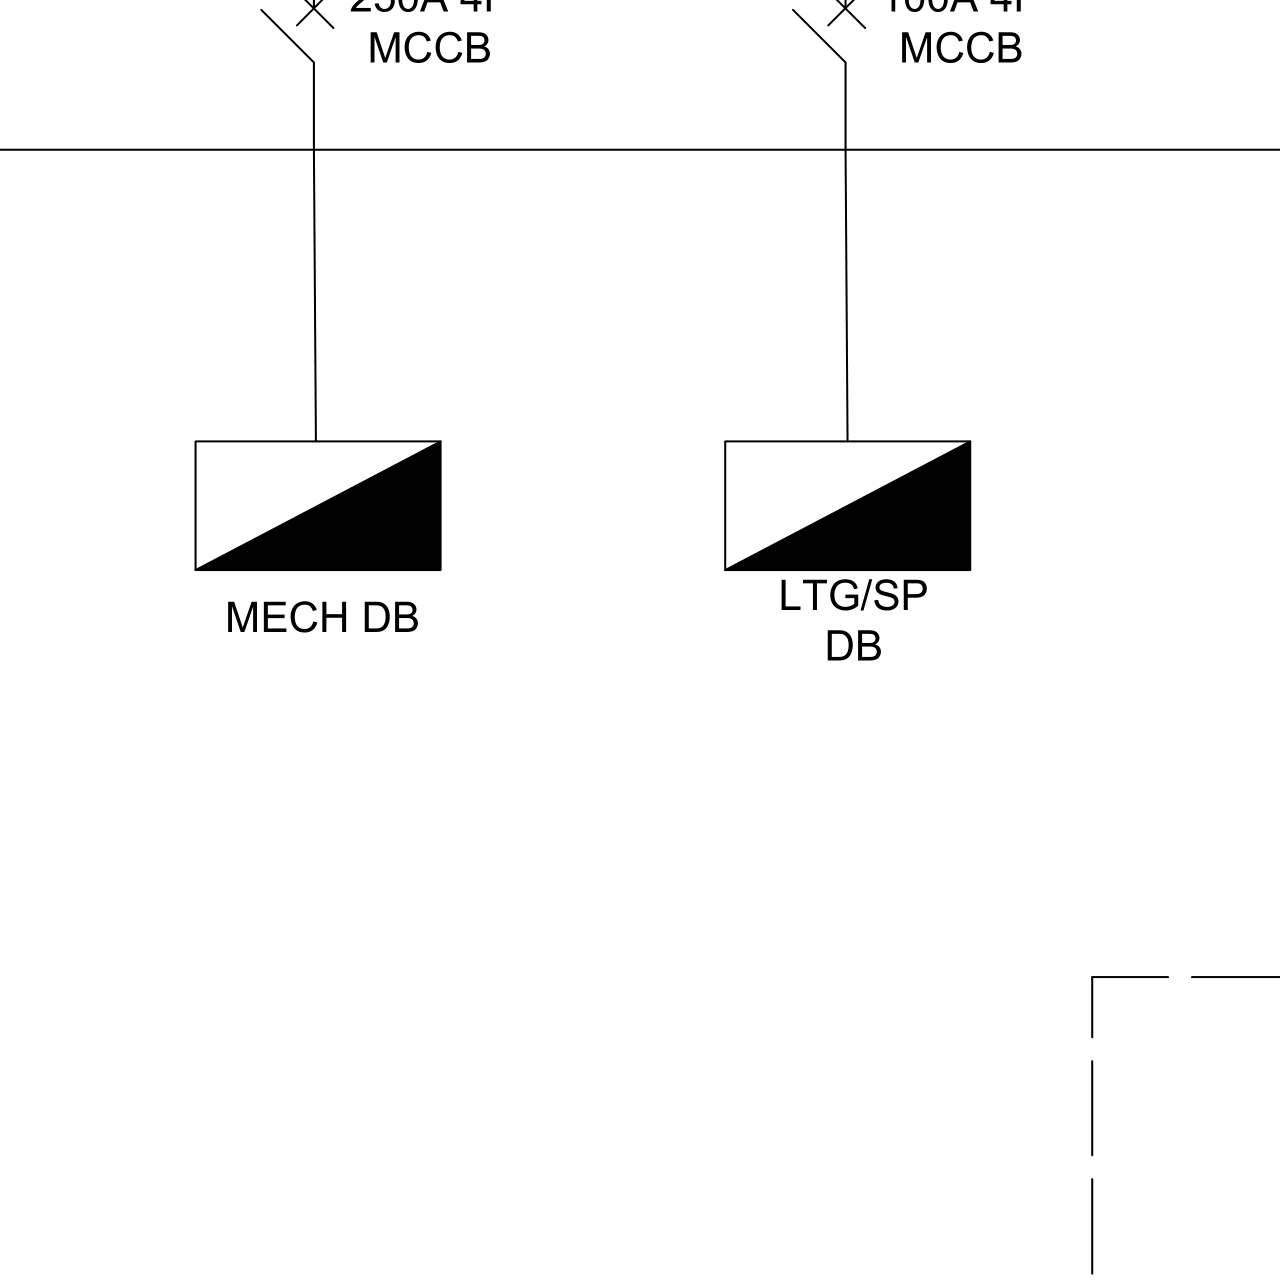Distribution Board: (183, 422, 461, 588), (707, 425, 994, 576)
